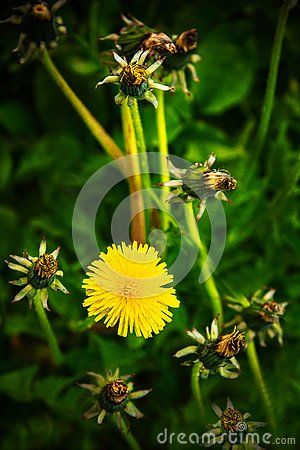dandelion: (82, 242, 181, 339)
